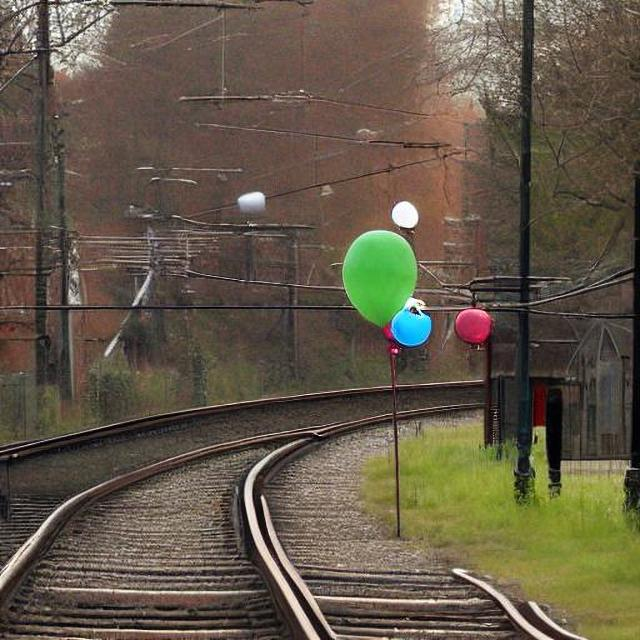balloon: (338, 223, 424, 344), (379, 192, 434, 236), (384, 296, 430, 346), (450, 304, 495, 348)
